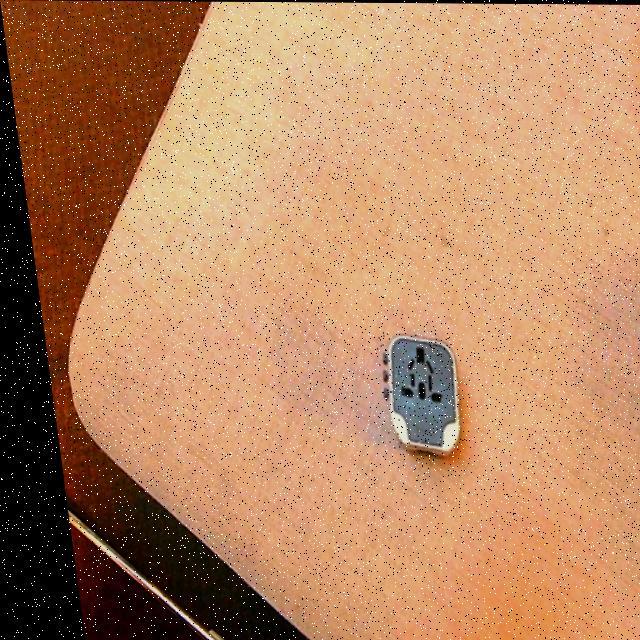adapter: (365, 332, 455, 455)
